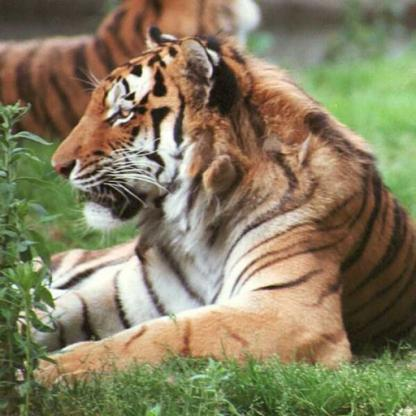Tiger: (40, 28, 415, 408), (0, 0, 279, 127)
